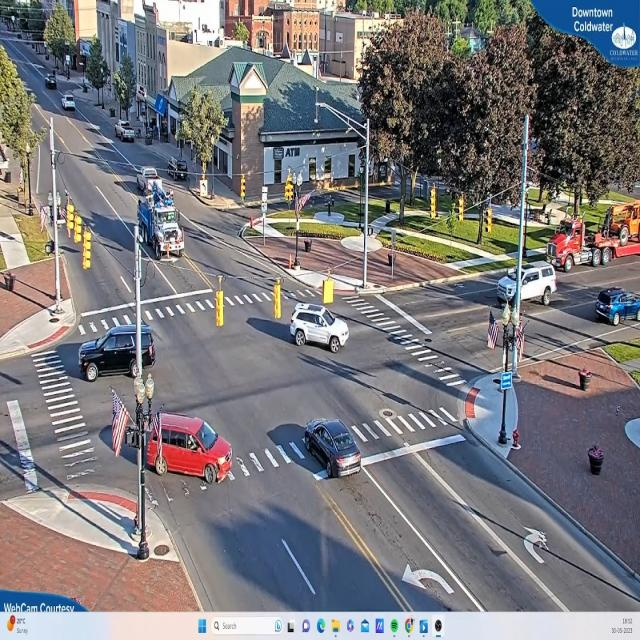car: (148, 405, 234, 481), (80, 324, 157, 382), (305, 418, 362, 480), (289, 303, 349, 353), (498, 262, 558, 308), (594, 288, 638, 327), (117, 122, 137, 144), (63, 95, 76, 110), (46, 77, 58, 90)
truck: (551, 208, 626, 282), (135, 193, 192, 260)
